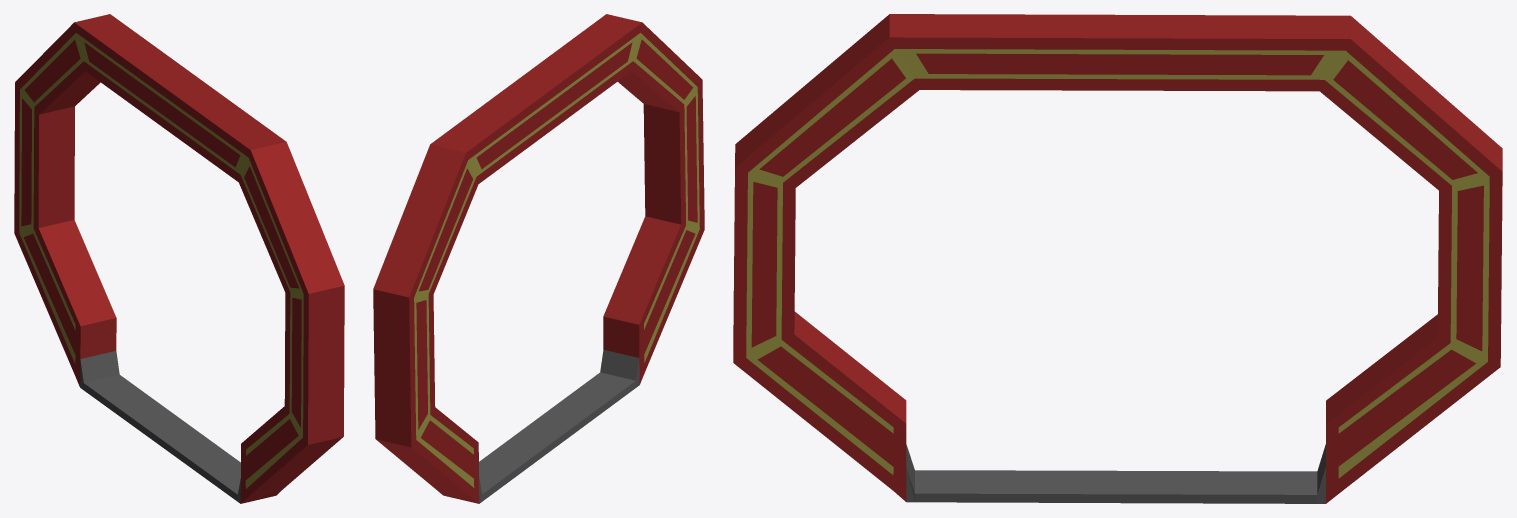
The model's file is darkness_object_gate.FBX.
3 renders of one model, left to right at view 1: azimuth 30°, elevation 25°; view 2: azimuth 150°, elevation 25°; view 3: azimuth 270°, elevation 25°, orthographic. The views are drawn at different scales.
Visible parts, largest first — view 1: Torus004; view 2: Torus004; view 3: Torus004.
Part boxes in pixels (x1,y1,x2,y2): Torus004: (14,14,344,503); Torus004: (373,14,704,503); Torus004: (733,14,1502,503).
Size of the model in its own units: 2.34 by 20.25 by 30.08.
